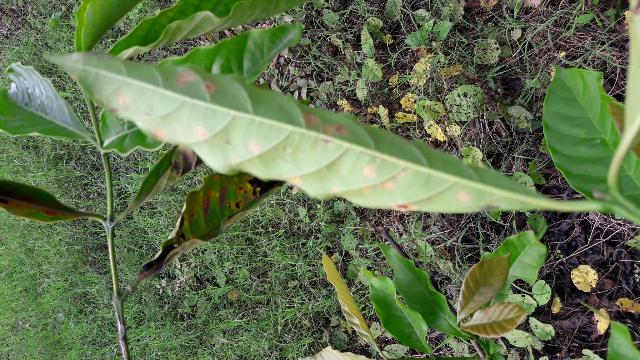rust_level_2: (34, 48, 552, 221)
